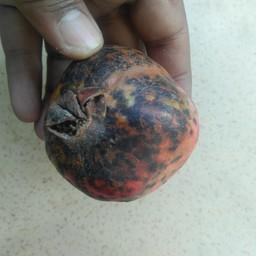Bad_pomegranate: (33, 34, 203, 208)
